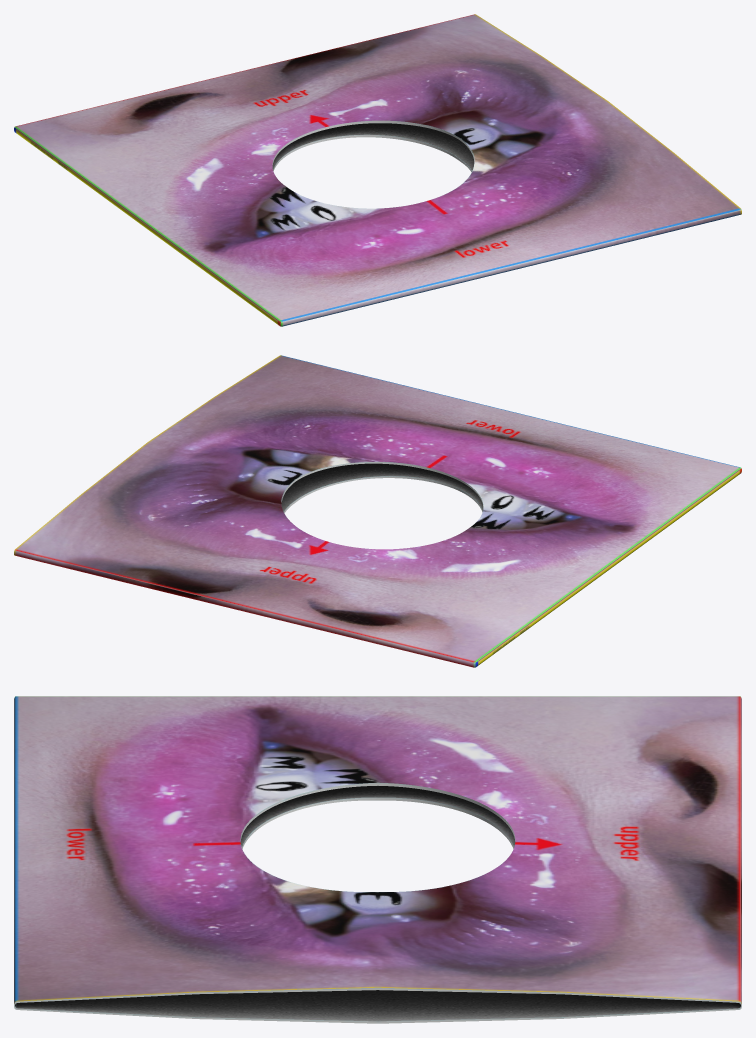
The model's file is sleeve_10_single_holed.dae.
3 renders of one model, top to bottom at view 1: azimuth 30°, elevation 25°; view 2: azimuth 150°, elevation 25°; view 3: azimuth 270°, elevation 25°, orthographic. The views are drawn at different scales.
Visible parts, largest first — view 1: sleeve; view 2: sleeve; view 3: sleeve.
Boxes of the visible parts, box(x1,y1,x2,y2) form: sleeve: box(14, 14, 741, 326); sleeve: box(14, 355, 741, 667); sleeve: box(14, 696, 741, 1023).
Bounding box in the file's own units: 26.4 × 1.45 × 26.5.
Materials: 1 (1 with a texture image).
